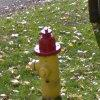Hydrant: (21, 16, 75, 100)
